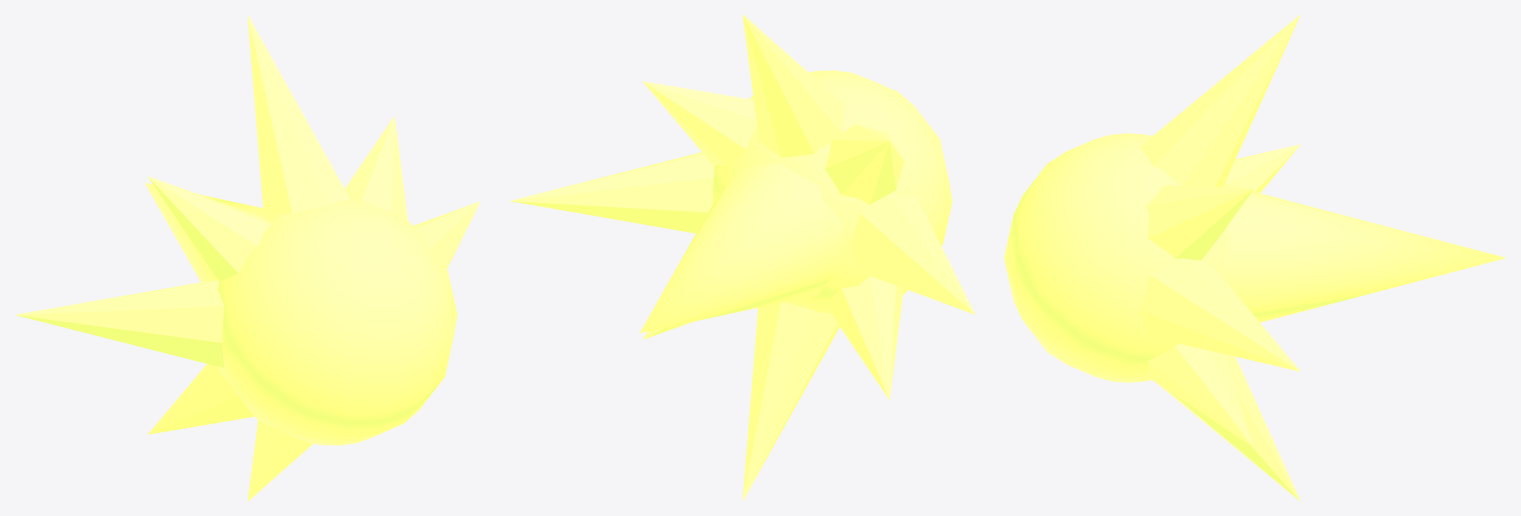
Rendered from MuzzleBurst.fbx.
3 views of the same model, side by side, from view 1: azimuth 30°, elevation 25°; view 2: azimuth 150°, elevation 25°; view 3: azimuth 270°, elevation 25° (orthographic).
Visible parts, largest first — view 1: MuzzleBurst; view 2: MuzzleBurst; view 3: MuzzleBurst.
Boxes of the visible parts, left/top/right/bottom form: MuzzleBurst: left=15, top=15, right=480, bottom=501; MuzzleBurst: left=510, top=14, right=975, bottom=500; MuzzleBurst: left=1004, top=14, right=1505, bottom=501.
Size of the model in its own units: 1.64 by 1.64 by 1.53.
